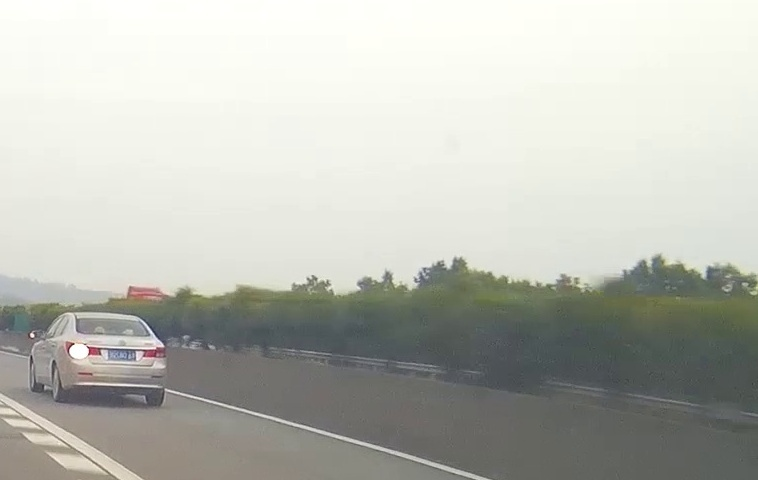L_light: (65, 340, 101, 356)
R_light: (142, 347, 167, 358)
T_light: (102, 319, 119, 324)
day-left: (64, 312, 168, 407)
